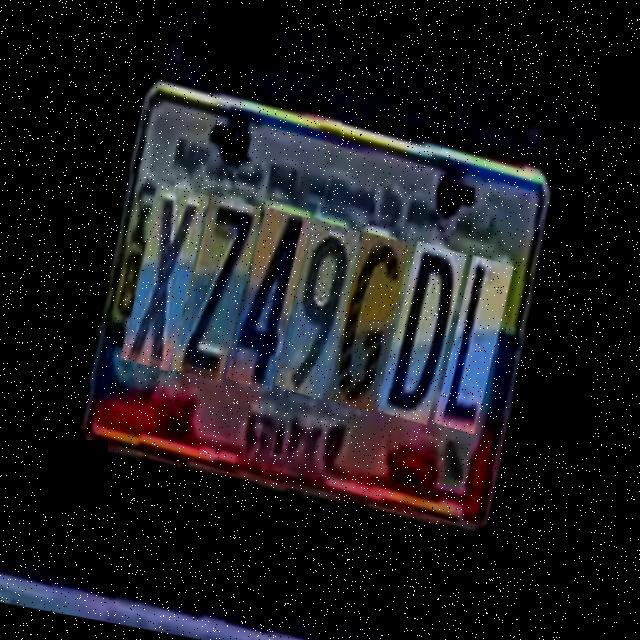4: (233, 198, 316, 387)
9: (281, 208, 368, 393)
D: (385, 227, 473, 415)
G: (334, 220, 419, 405)
L: (442, 241, 520, 422)
X: (127, 179, 215, 371)
Z: (179, 188, 267, 380)
